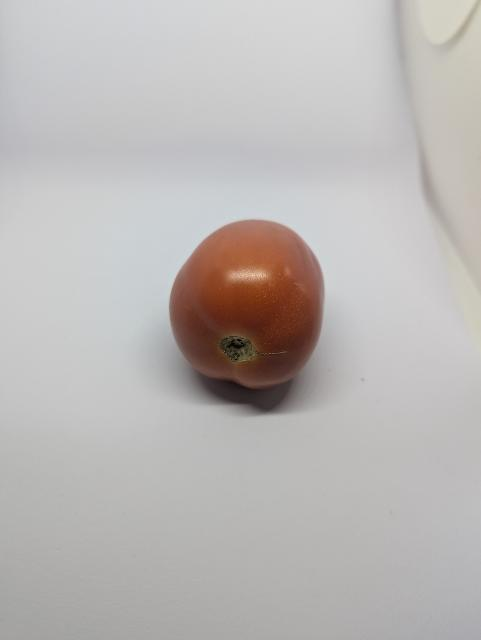red: (155, 205, 346, 415)
